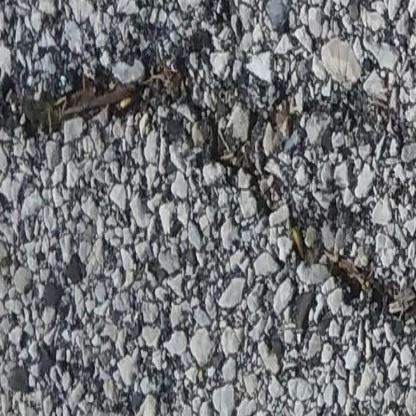Cracks: (0, 38, 416, 348)
